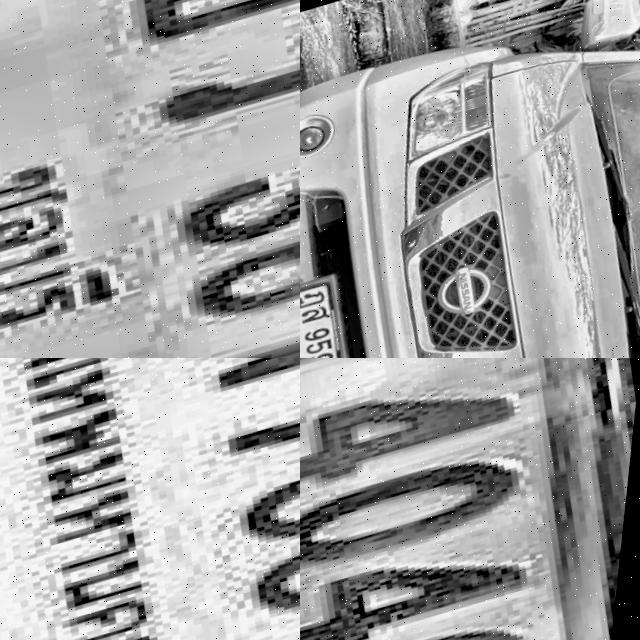license-plate: (0, 0, 300, 358), (300, 358, 640, 640), (0, 358, 300, 640), (300, 265, 376, 358)
